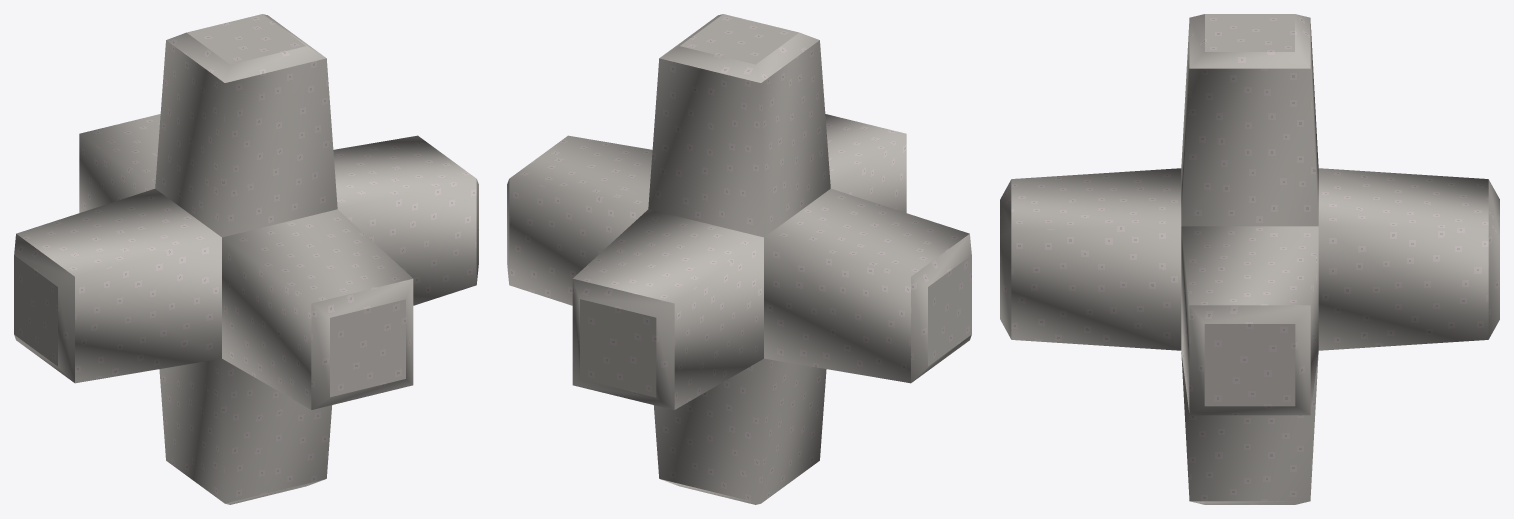
File: 028d_Breakwater_Block.glb
3 renders of one model, left to right at view 1: azimuth 30°, elevation 25°; view 2: azimuth 150°, elevation 25°; view 3: azimuth 270°, elevation 25°, orthographic. The views are drawn at different scales.
Visible parts, largest first — view 1: part_0; view 2: part_0; view 3: part_0.
Part boxes in pixels (box(x1,y1,x2,y2)): part_0: box(14, 14, 478, 504); part_0: box(507, 14, 971, 504); part_0: box(1000, 14, 1499, 504).
Bounding box in the file's own units: 2 × 2 × 2.
Materials: 1 (1 with a texture image).
